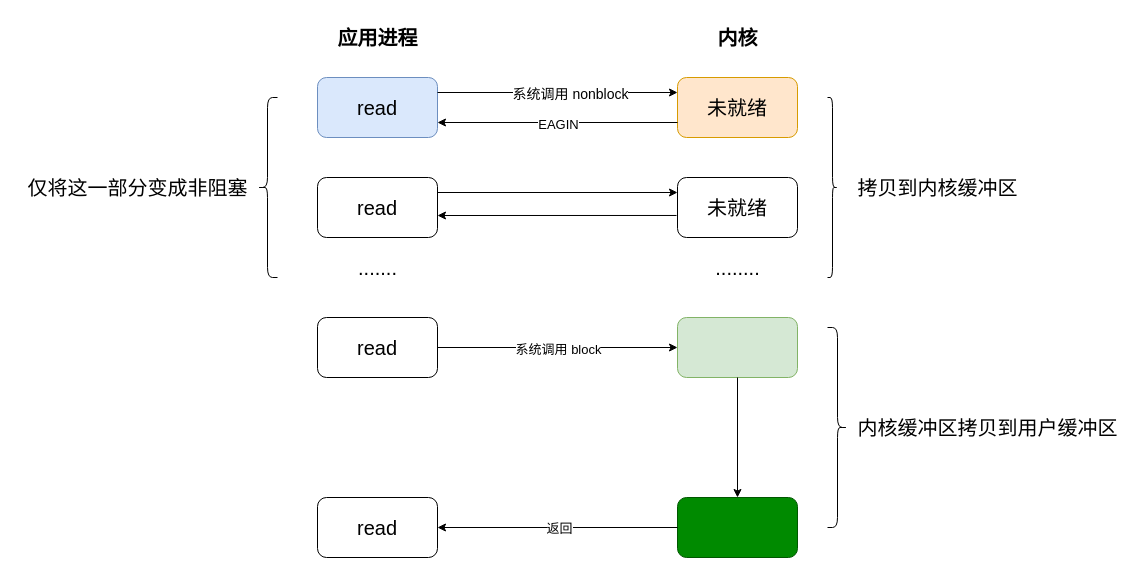
This 1144x575 diagram has some shape labels left out. The shapes that lost their labels are listed below. From the top down, each one's centre as x and y in pixels, then its label:
At (737,347): "已就绪".
At (737,527): "拷贝结束".
